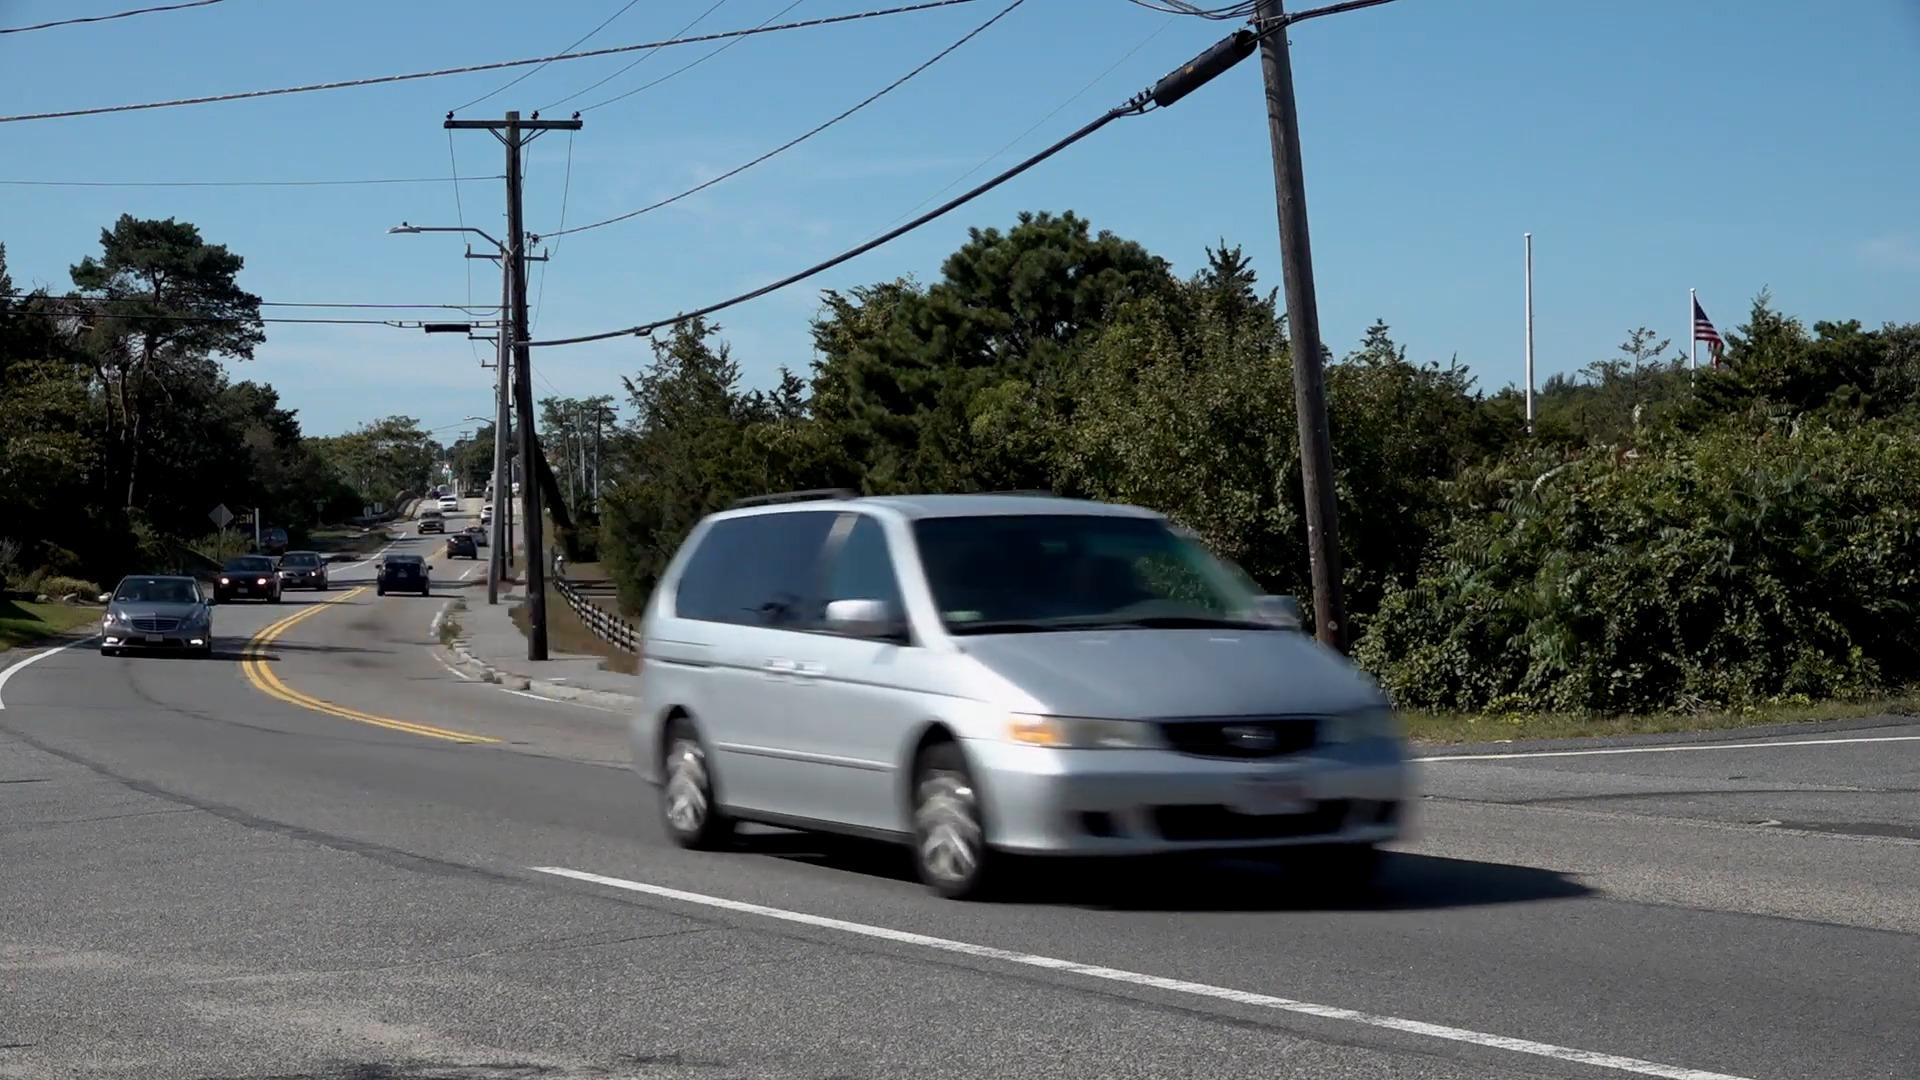minivan: (636, 494, 1410, 903)
sedans: (101, 573, 214, 659)
